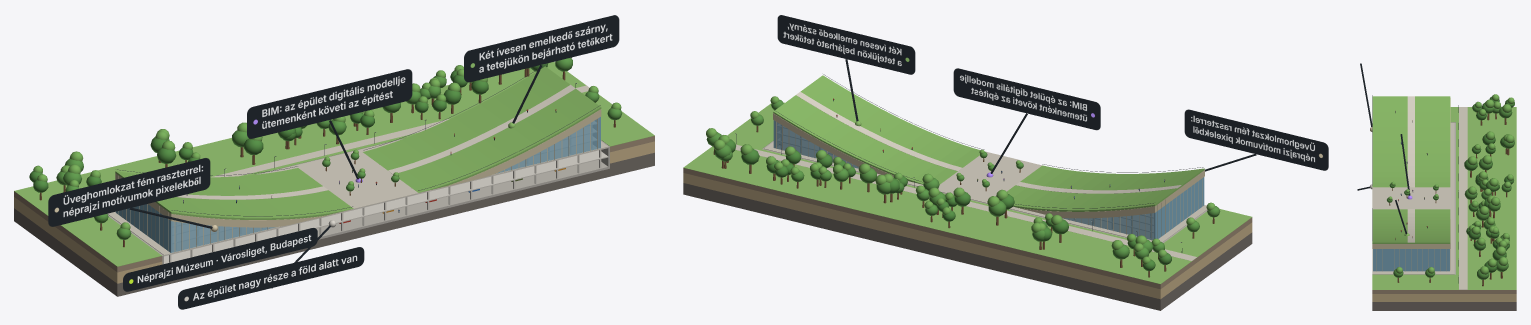
File: bim-epitkezes-feliratok.glb
3 renders of one model, left to right at view 1: azimuth 30°, elevation 25°; view 2: azimuth 150°, elevation 25°; view 3: azimuth 270°, elevation 25°, orthographic. The views are drawn at different scales.
Visible parts, largest first — view 1: teto_m_86b862 (×2), liget_m_8fbf6a, ter_m_cfc9bb, label_9, liget_m_77706a, label_6, label_0, pince_m_d5d1c8, homl_m_7fb0c8_t (×2), label_3, nevtabla, godor_m_b9b5ad (+10 smaller); view 2: liget_m_8fbf6a, teto_m_86b862 (×2), liget_m_77706a, liget_m_c9b48c, label_9, label_6, label_0, ter_m_cfc9bb, homl_m_7fb0c8_t (×2), liget_m_74ad55, liget_m_a08d77, liget_m_5a9647 (+6 smaller); view 3: teto_m_86b862 (×2), liget_m_8fbf6a, ter_m_cfc9bb, liget_m_74ad55, homl_m_7fb0c8_t, liget_m_d3cdbf, liget_m_77706a, liget_m_5a9647, liget_m_c9b48c, liget_m_4f8a40, teto_m_d9d3c5 (×2), homl_m_cfc3a4 (+5 smaller).
Part boxes in pixels (x1,y1,x2,y2): teto_m_86b862 (×2): [115, 66, 601, 219]; liget_m_8fbf6a: [14, 62, 654, 266]; ter_m_cfc9bb: [108, 140, 607, 255]; label_9: [247, 69, 412, 138]; liget_m_77706a: [14, 152, 654, 296]; label_6: [48, 158, 210, 226]; label_0: [464, 15, 619, 82]; pince_m_d5d1c8: [164, 147, 608, 263]; homl_m_7fb0c8_t (×2): [115, 117, 600, 252]; label_3: [178, 247, 364, 309]; nevtabla: [123, 228, 317, 291]; godor_m_b9b5ad: [108, 138, 609, 264]; liget_m_8fbf6a: [683, 102, 1251, 284]; teto_m_86b862 (×2): [773, 75, 1204, 211]; liget_m_77706a: [683, 183, 1252, 310]; liget_m_c9b48c: [683, 173, 1252, 299]; label_9: [953, 68, 1100, 130]; label_6: [1184, 109, 1328, 170]; label_0: [777, 15, 915, 74]; ter_m_cfc9bb: [764, 142, 1206, 242]; homl_m_7fb0c8_t (×2): [773, 120, 1204, 240]; liget_m_74ad55: [706, 96, 1215, 264]; liget_m_a08d77: [683, 168, 1252, 289]; liget_m_5a9647: [706, 99, 1220, 259]; teto_m_86b862 (×2): [1372, 96, 1450, 243]; liget_m_8fbf6a: [1372, 107, 1516, 289]; ter_m_cfc9bb: [1372, 122, 1454, 274]; liget_m_74ad55: [1396, 94, 1514, 274]; homl_m_7fb0c8_t: [1373, 249, 1449, 271]; liget_m_d3cdbf: [1459, 107, 1467, 289]; liget_m_77706a: [1372, 302, 1516, 310]; liget_m_5a9647: [1393, 102, 1514, 279]; liget_m_c9b48c: [1372, 294, 1516, 301]; liget_m_4f8a40: [1464, 96, 1514, 272]; teto_m_d9d3c5 (×2): [1407, 96, 1414, 242]; homl_m_cfc3a4: [1372, 219, 1450, 271].
Bounding box in the file's own units: 0.7152 × 0.1823 × 0.2303.
51 materials, 5 textured.
